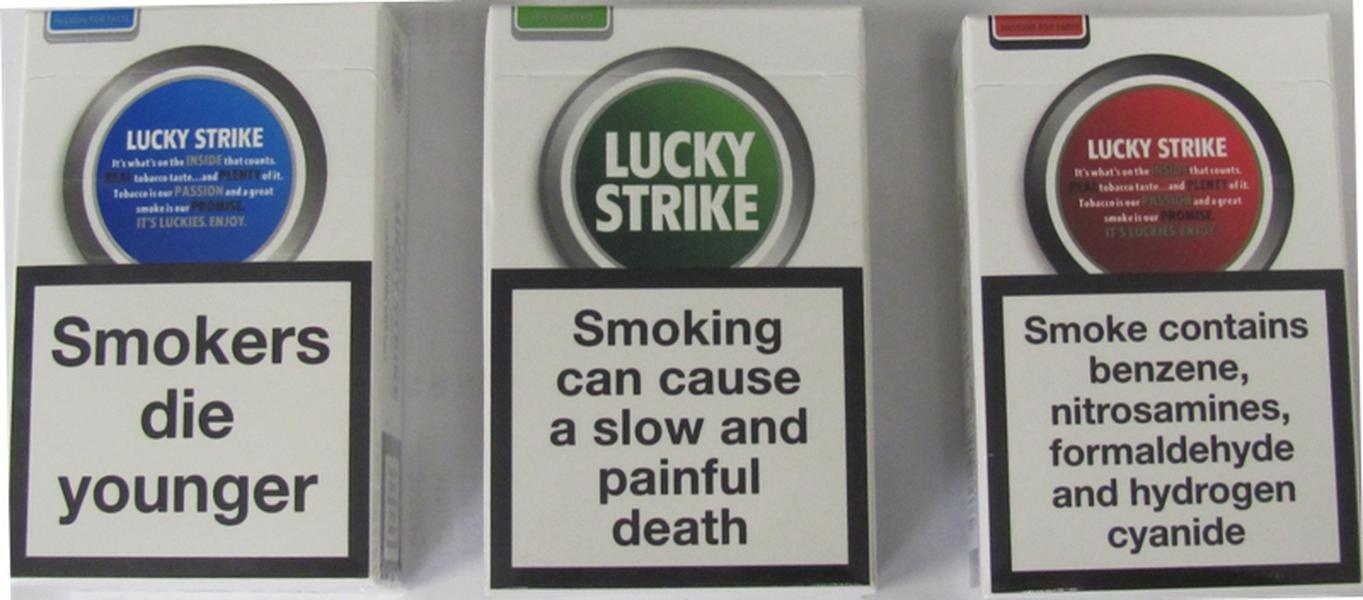lucky_strike_blue: (9, 14, 370, 575)
lucky_strike_red: (967, 17, 1363, 585)
